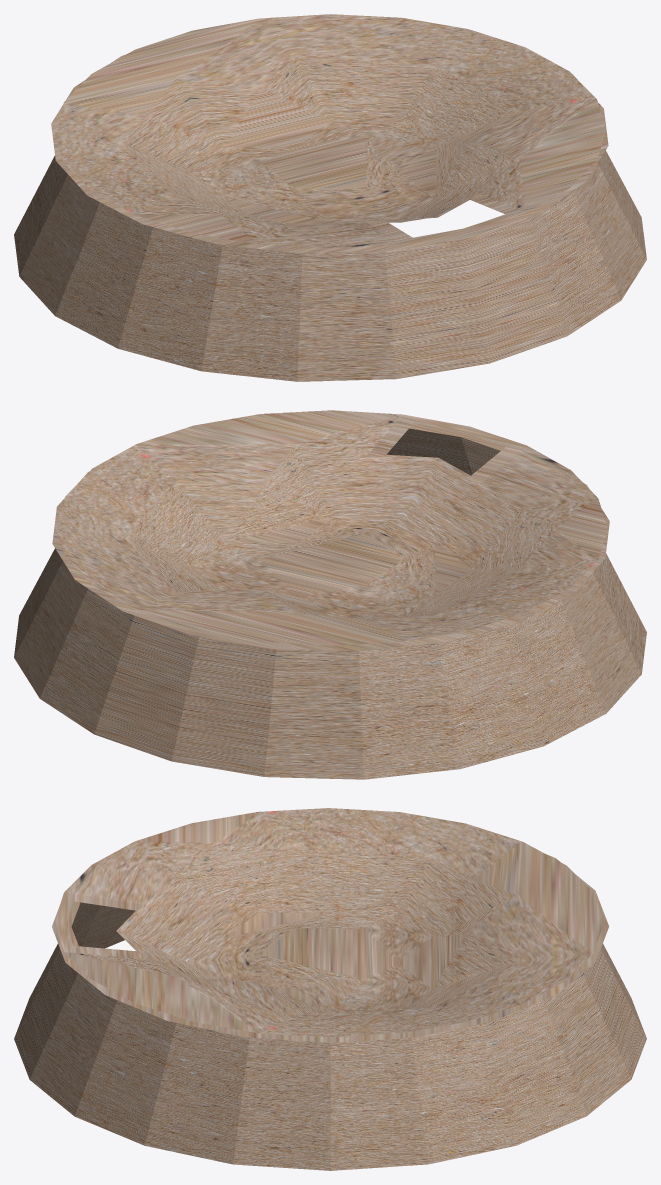
Rendered from Tapa.obj.
3 views of the same model, one above another, from view 1: azimuth 30°, elevation 25°; view 2: azimuth 150°, elevation 25°; view 3: azimuth 270°, elevation 25° (orthographic).
Visible parts, largest first — view 1: polySurface13; view 2: polySurface13; view 3: polySurface13.
Part boxes in pixels (box(x1,y1,x2,y2)): polySurface13: box(14, 14, 646, 381); polySurface13: box(14, 410, 646, 779); polySurface13: box(14, 808, 646, 1170).
Bounding box in the file's own units: 0.3549 × 0.0737 × 0.355.
Materials: 1 (1 with a texture image).
